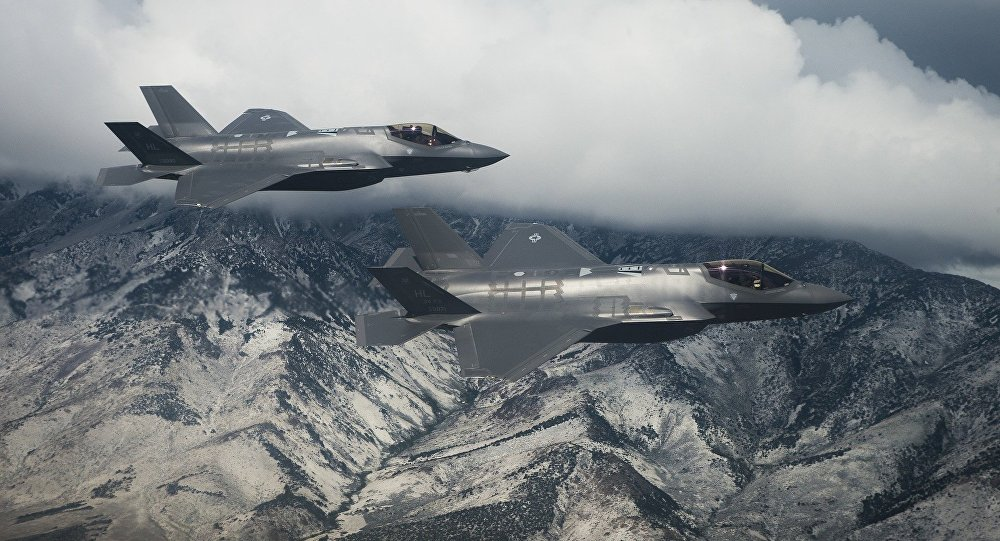F-35 Lightning: (346, 198, 864, 409), (95, 62, 519, 222)
